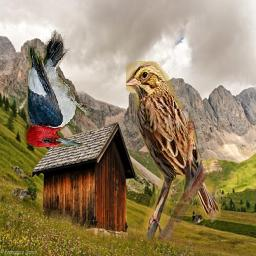Sparrow: (127, 61, 222, 239)
Woodpecker: (21, 29, 94, 147)
